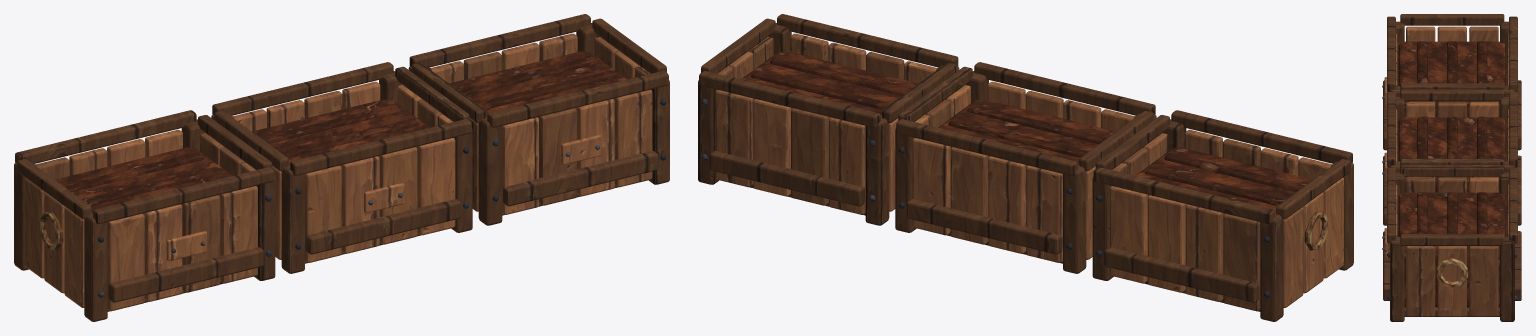
The model's file is pantry_crates.glb.
The picture shows the model from 3 angles, left to right: view 1: azimuth 30°, elevation 25°; view 2: azimuth 150°, elevation 25°; view 3: azimuth 270°, elevation 25°; orthographic projection. The views are drawn at different scales.
Visible parts, largest first — view 1: model; view 2: model; view 3: model.
Boxes of the visible parts, x1=… form: model: x1=14, y1=14, x2=669, y2=321; model: x1=698, y1=14, x2=1353, y2=321; model: x1=1382, y1=14, x2=1521, y2=321.
Bounding box in the file's own units: 1.78 × 0.3225 × 0.4687.
Materials: 10 (10 with a texture image).
